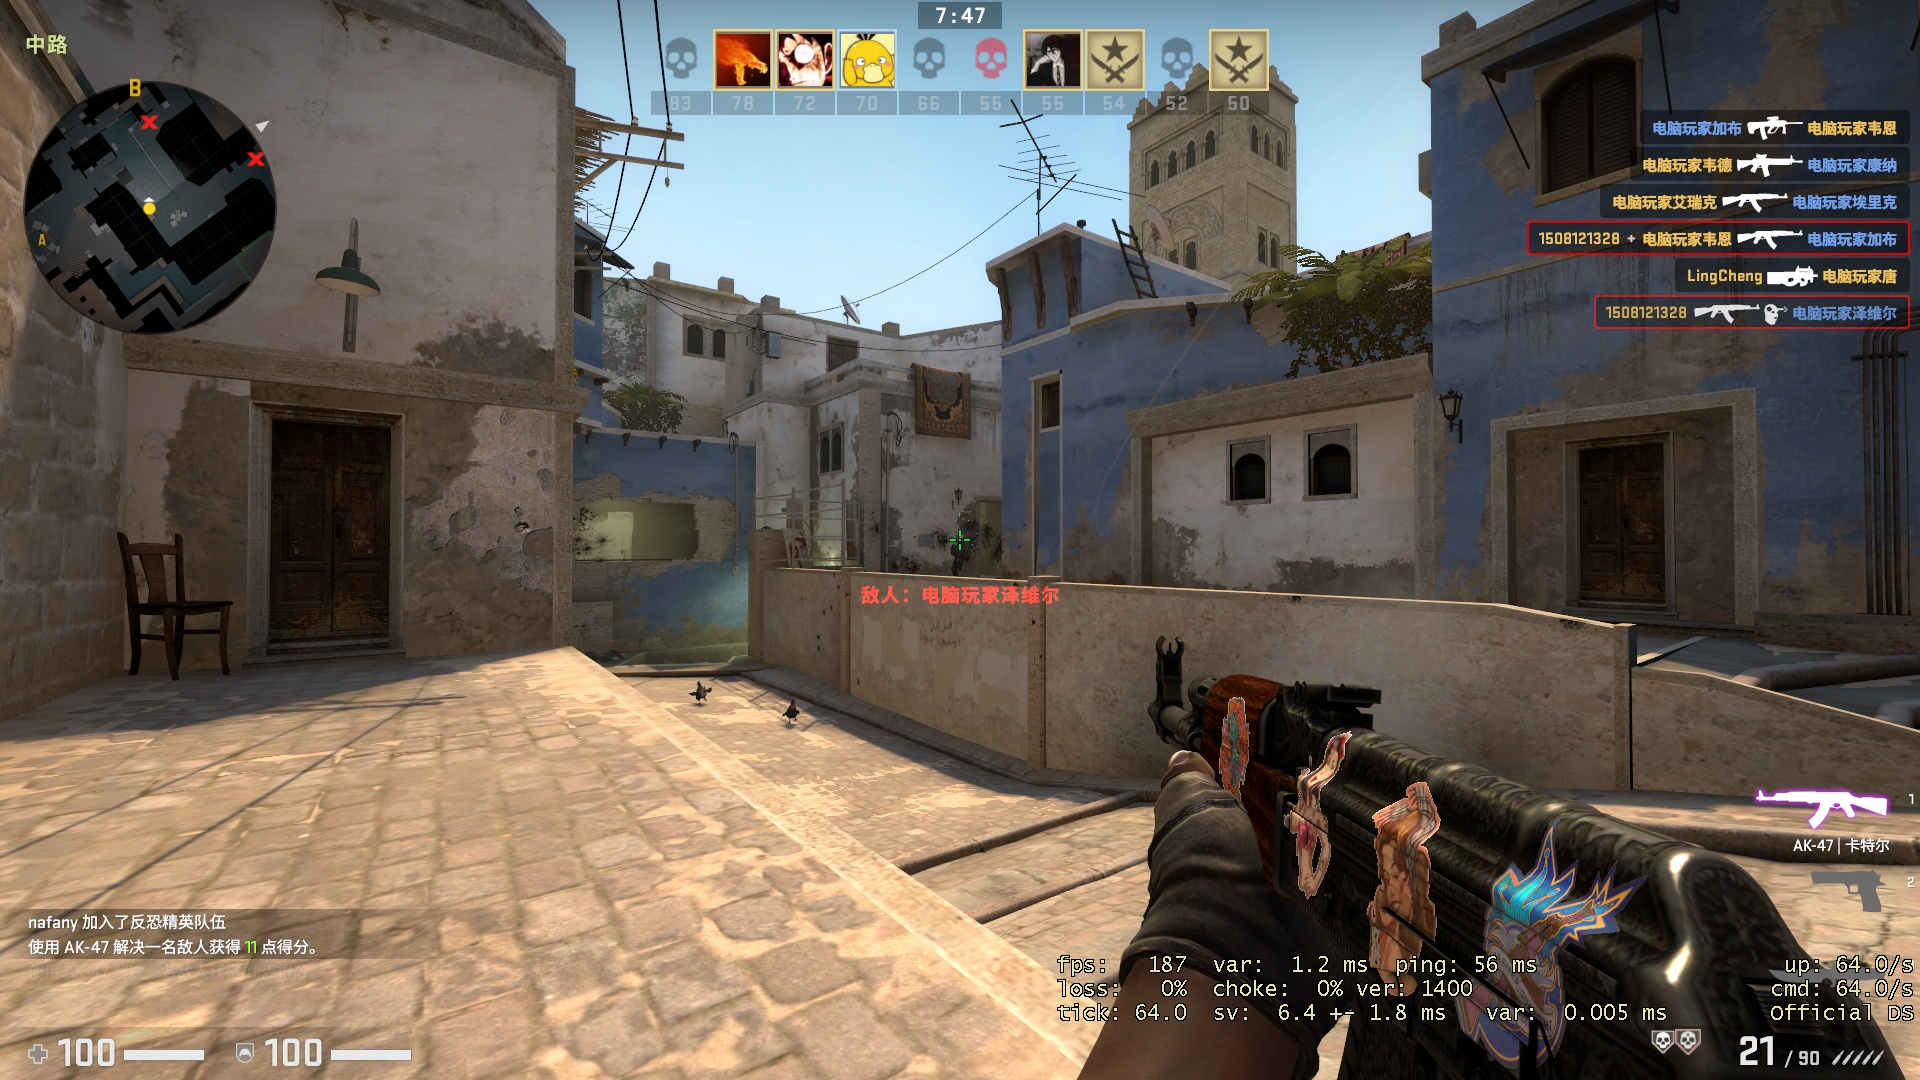body: (948, 535, 970, 575)
head: (956, 535, 965, 545)
